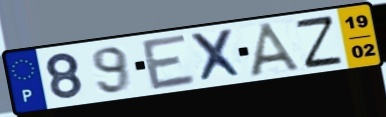8: (44, 50, 86, 102)
9: (90, 45, 134, 94)
A: (247, 20, 307, 77)
E: (139, 32, 199, 93)
X: (187, 27, 247, 85)
Z: (292, 13, 346, 71)
